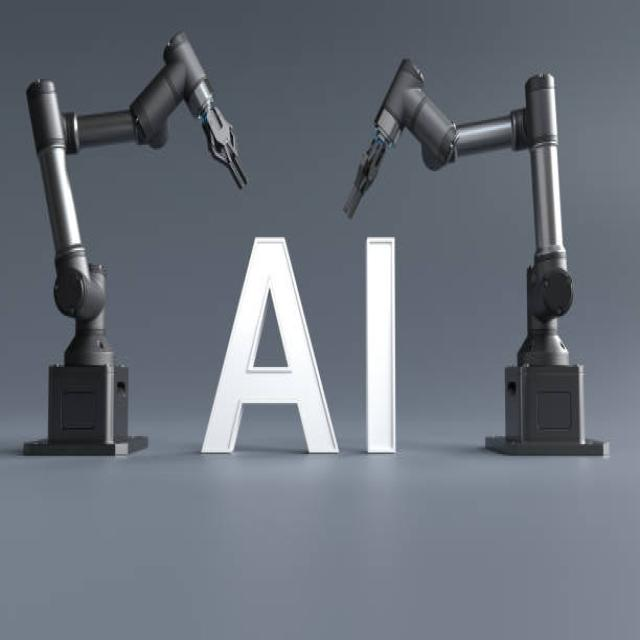Robotic-arm: (339, 27, 612, 463), (17, 26, 247, 491)
